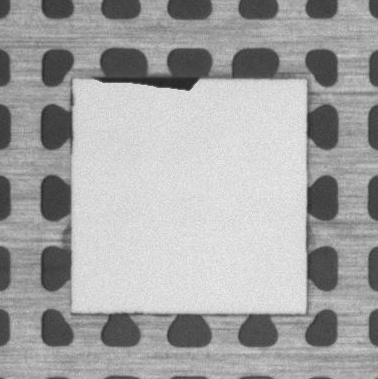DIE_BROKEN: (90, 74, 204, 94)
